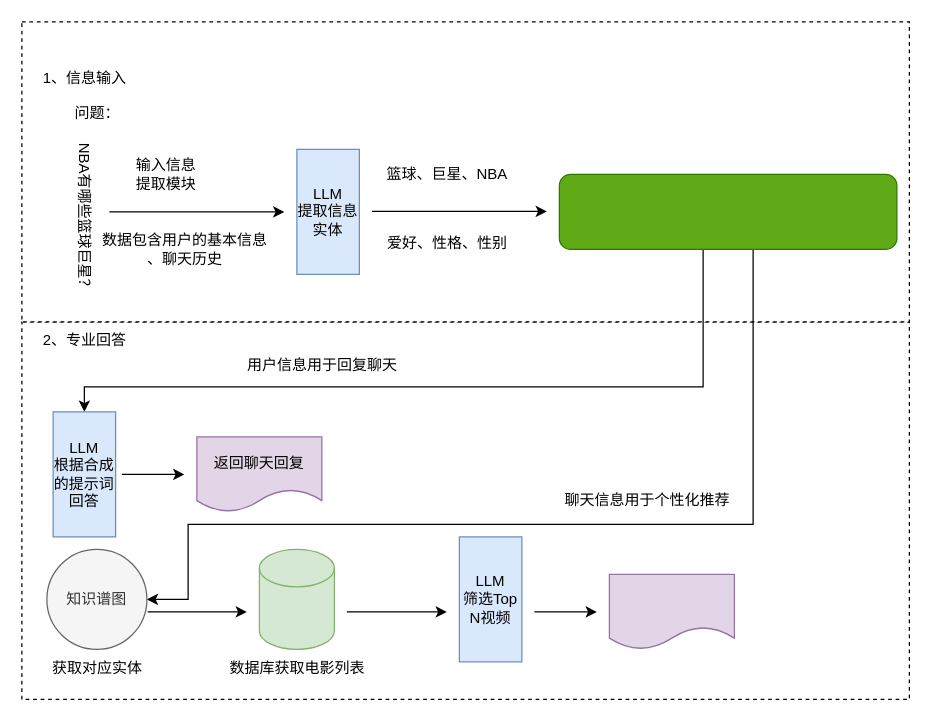
The diagram is 931 pixels wide and 721 high, and some of its shapes have lost their labels. The shapes that lost their labels are listed below. From the top down, each one's centre as x and y in pixels, then its label:
the point at 727,211: 聊天信息：与知识图谱中的知识无关， 不推荐该聊天信息相关视频 用户信息：根据用户信息，查询知识图谱， 构造符合用户画像的提示词
the point at 296,598: DataBase
the point at 671,611: 返回推荐结果
